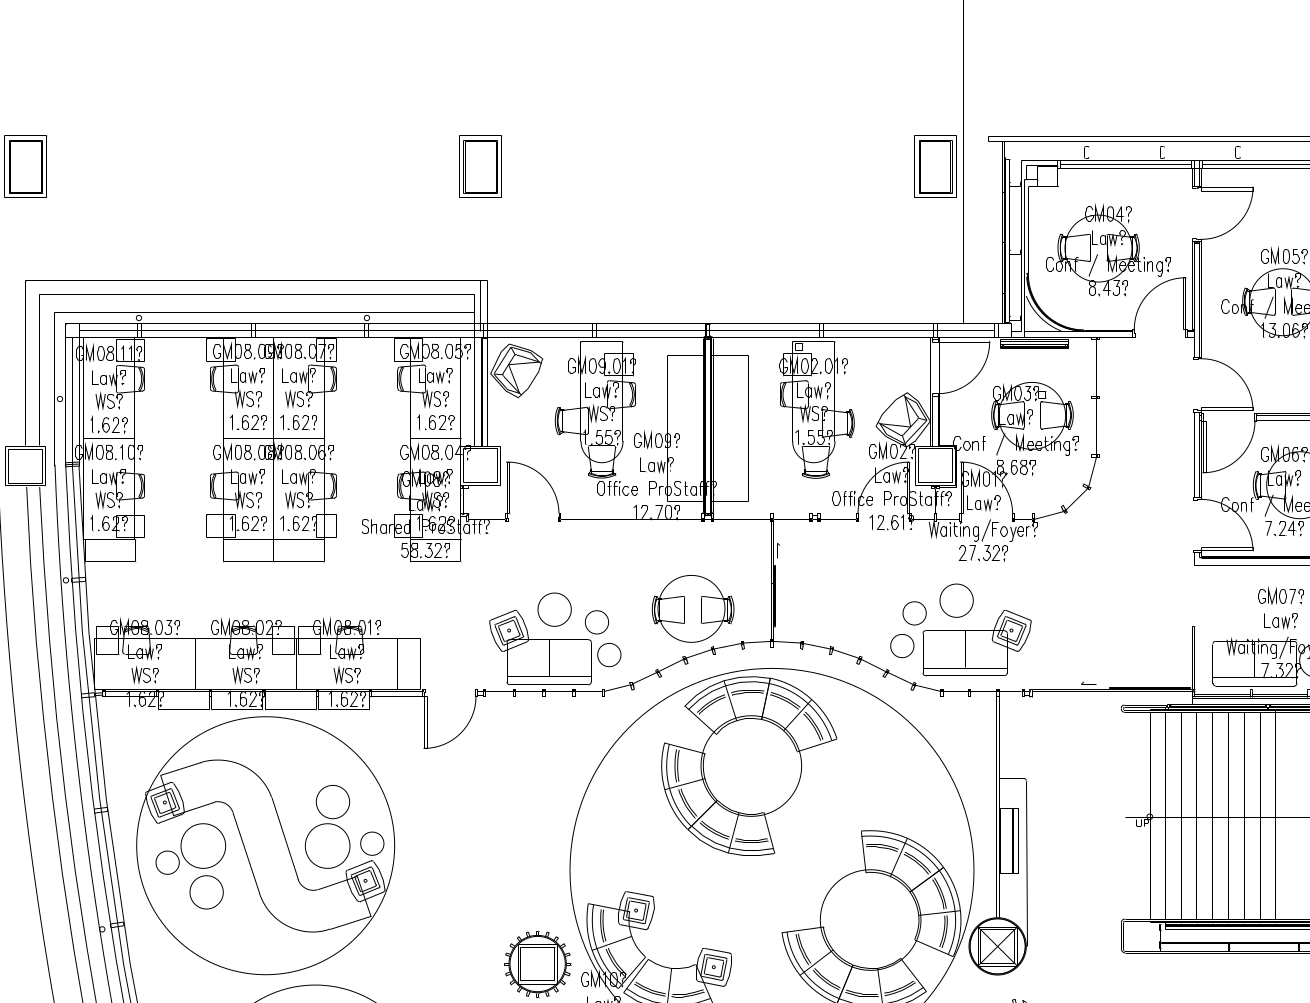door: (503, 449, 563, 530), (419, 683, 479, 764), (853, 453, 913, 534), (957, 454, 1017, 535), (1131, 268, 1191, 349), (1198, 176, 1258, 257), (1196, 352, 1256, 421), (1197, 407, 1257, 476), (1194, 485, 1254, 554)
